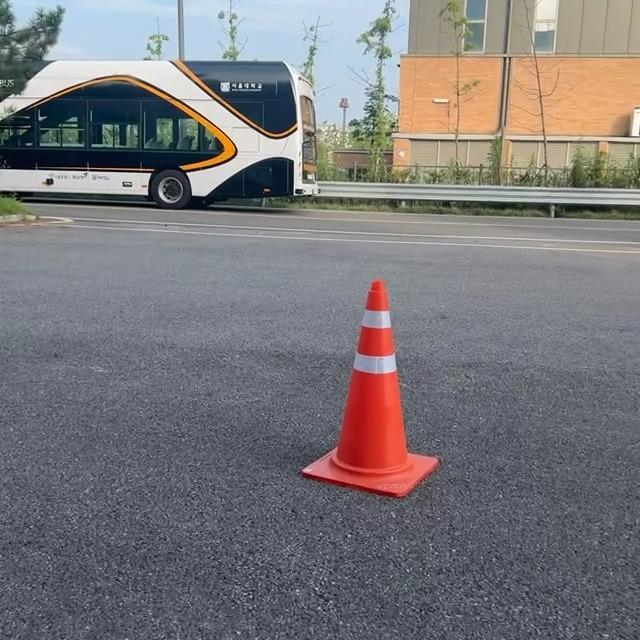fallen_object: (272, 265, 459, 555)
